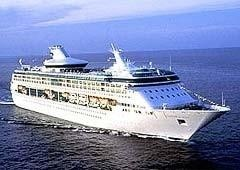youlun: (10, 38, 230, 150)
